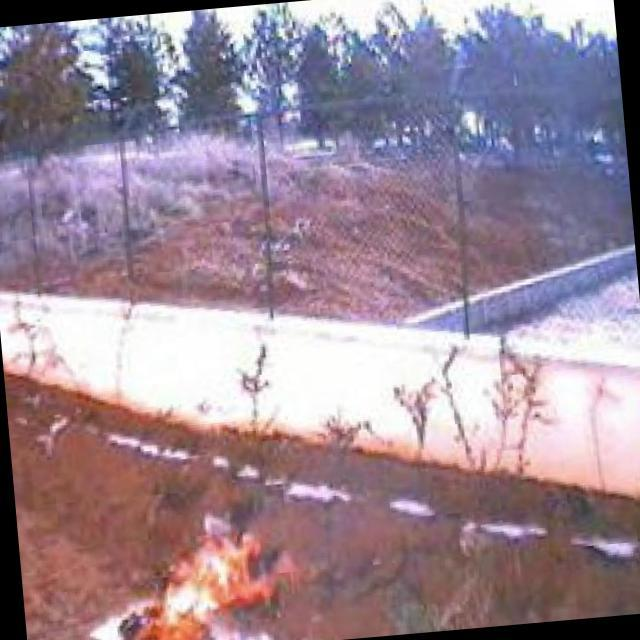Fire: (104, 513, 313, 640)
